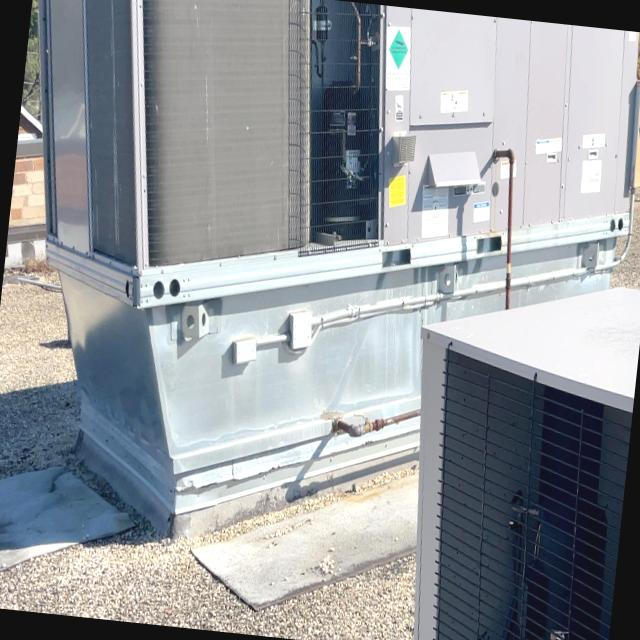RTU: (0, 0, 640, 540)
SPLIT-SYSTEM: (378, 251, 640, 640)
